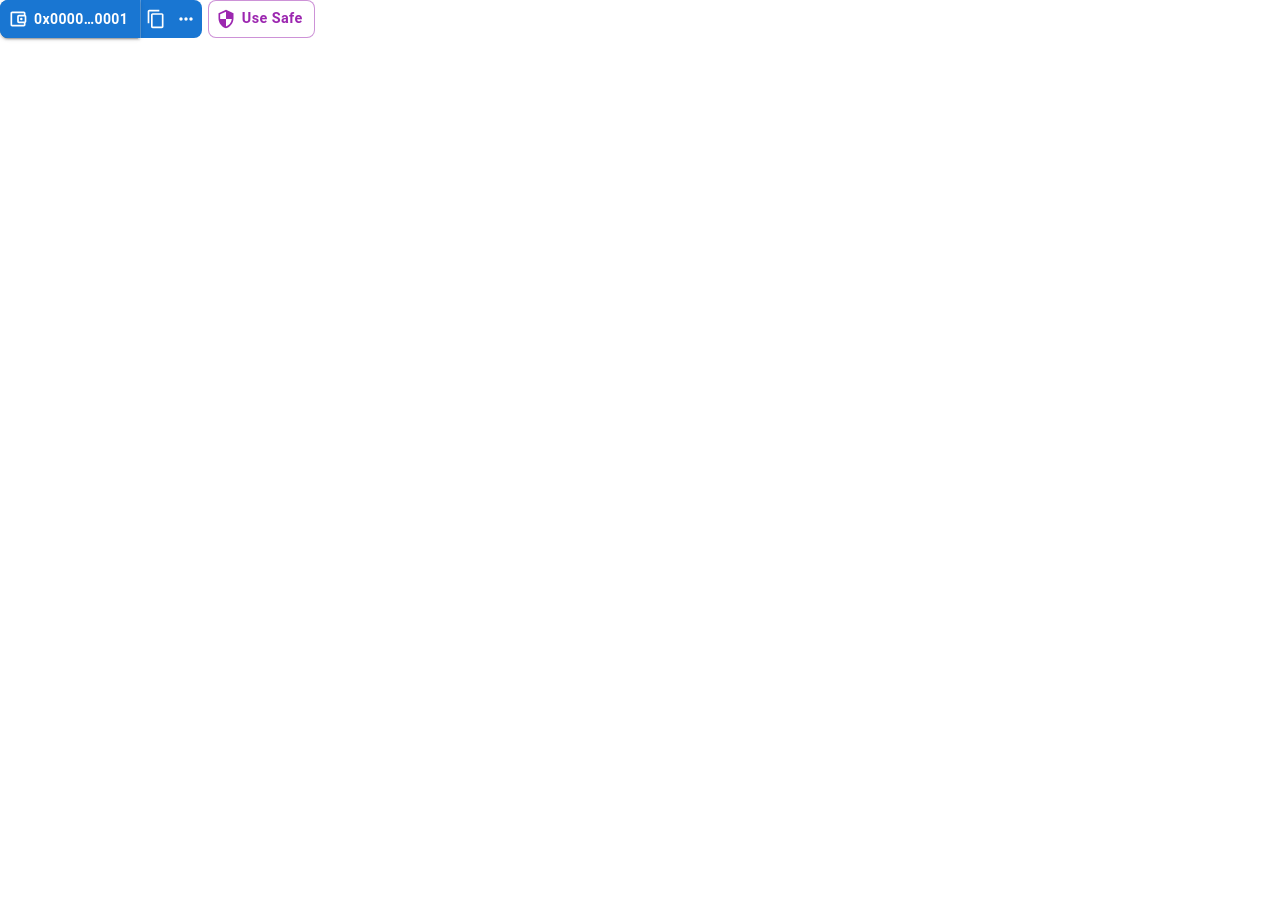
ConnectionButton Safe address flow › reports an already saved Safe without duplicating it
Click the button with aria-label "Manage Safe accounts". click: {"x": 261, "y": 19}
box: [208,0,315,38]
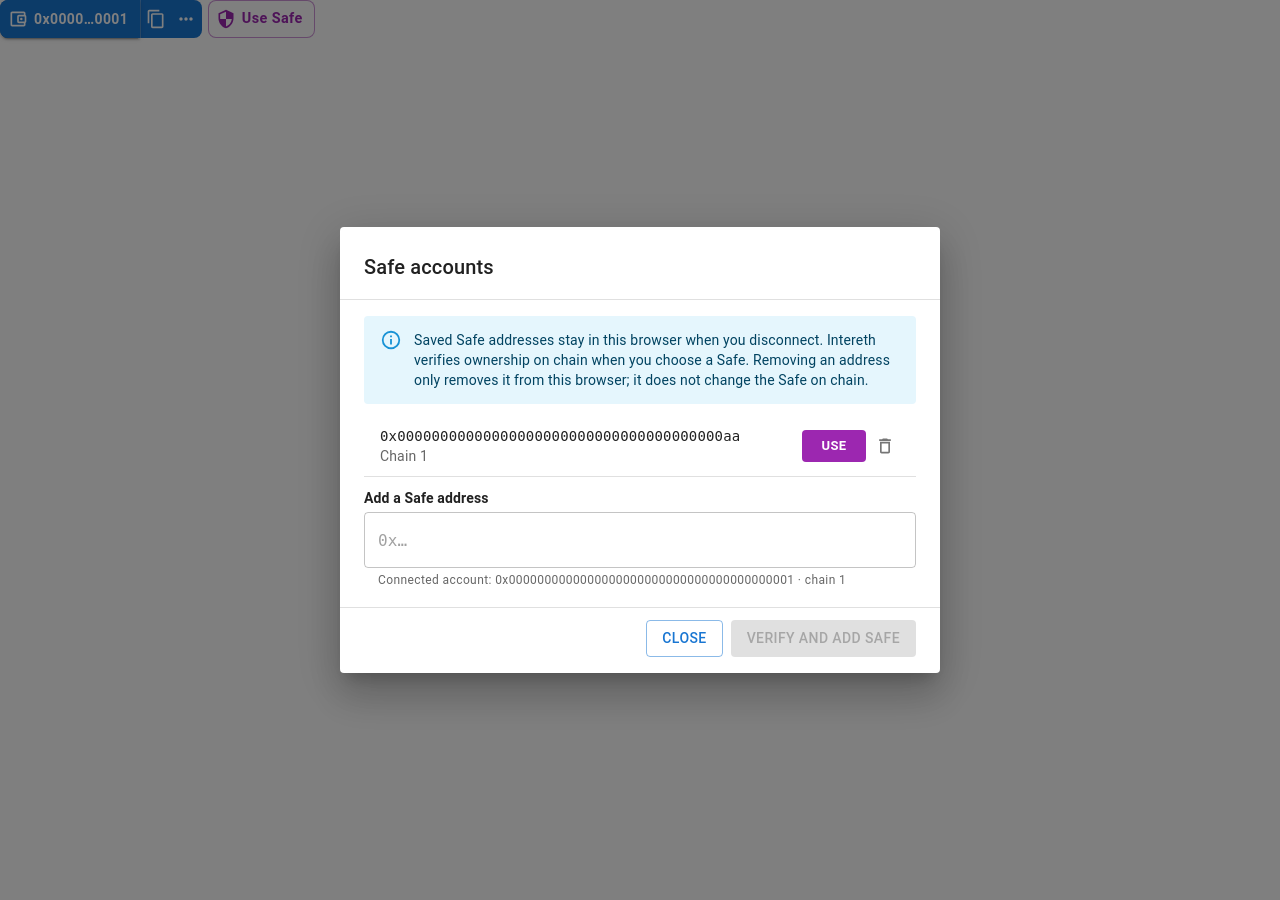
Type "0x00000000000000000000000000000000000000aa" into the field labelled "Add a Safe address". click: {"x": 640, "y": 540}
box: [364,512,916,568]
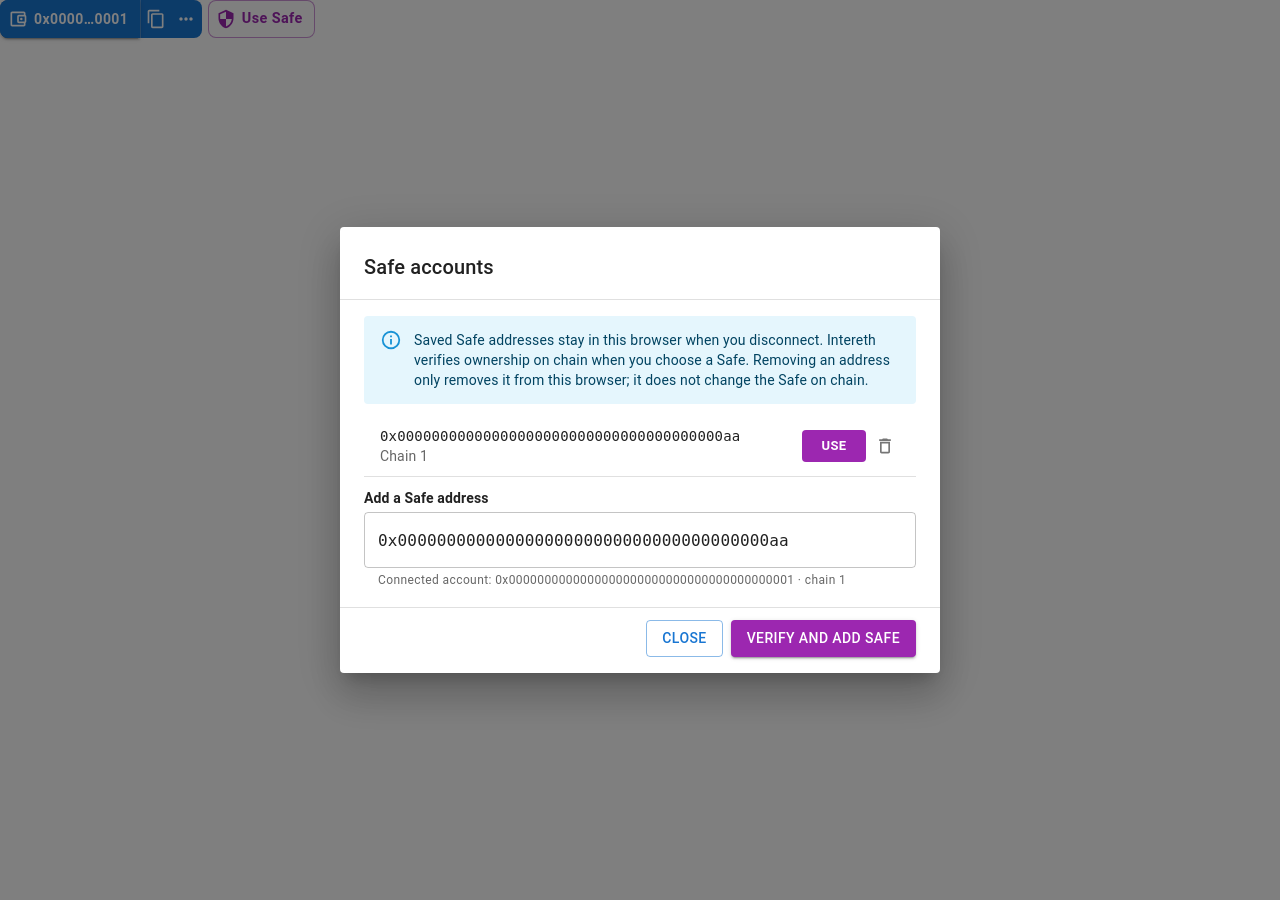
Click the button "Verify and add Safe". click: {"x": 823, "y": 638}
box: [731,620,916,657]
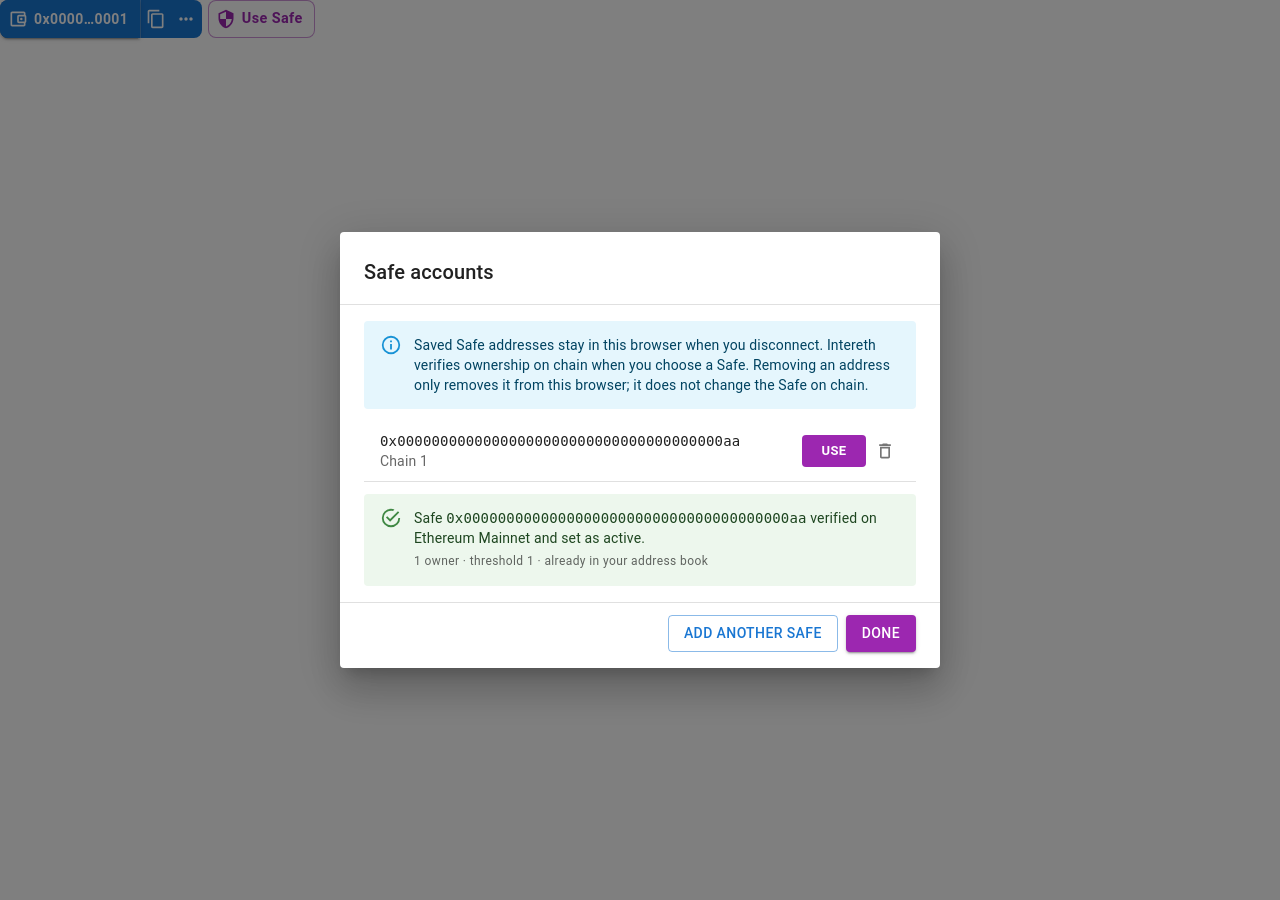
Result: the message named "Safe added" shows "already in your address book" at [544,554,708,568]
